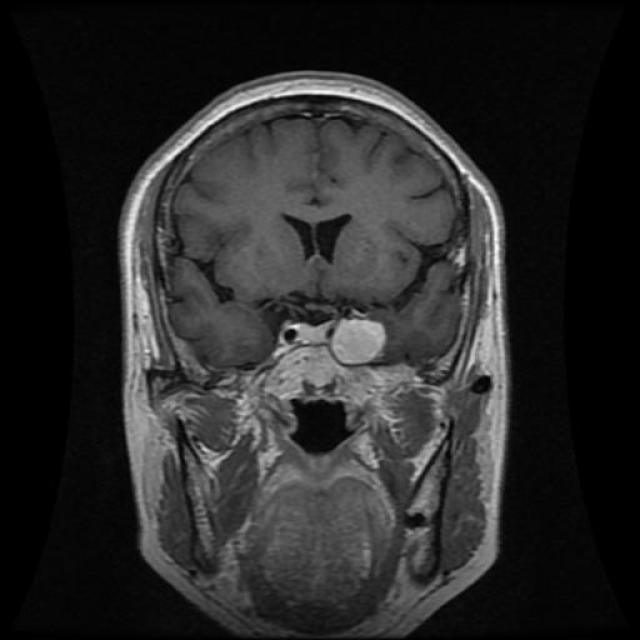meningioma: (330, 318, 386, 366)
